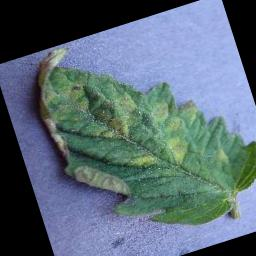Leaf_Mold: (82, 89, 148, 148), (149, 92, 203, 139), (166, 131, 193, 166), (128, 149, 160, 170), (213, 146, 231, 167)
